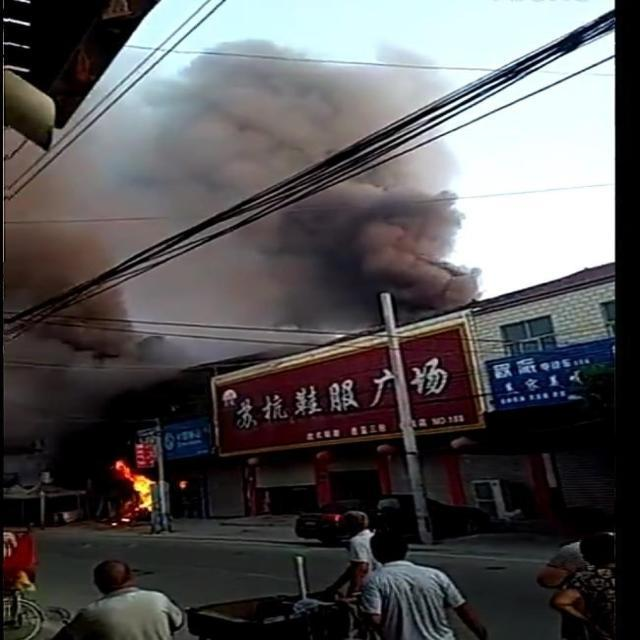Fire: (102, 457, 160, 528)
Smoke: (1, 39, 487, 448)
